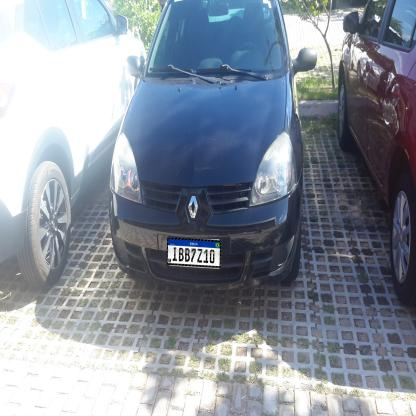PlacaM: (167, 237, 221, 268)
